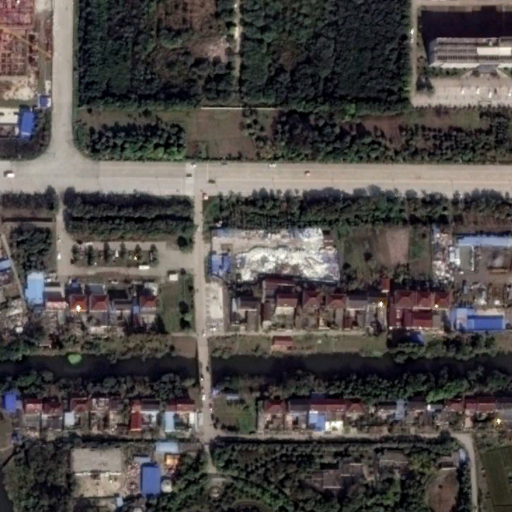msw: (228, 227, 338, 285), (430, 232, 458, 288)
